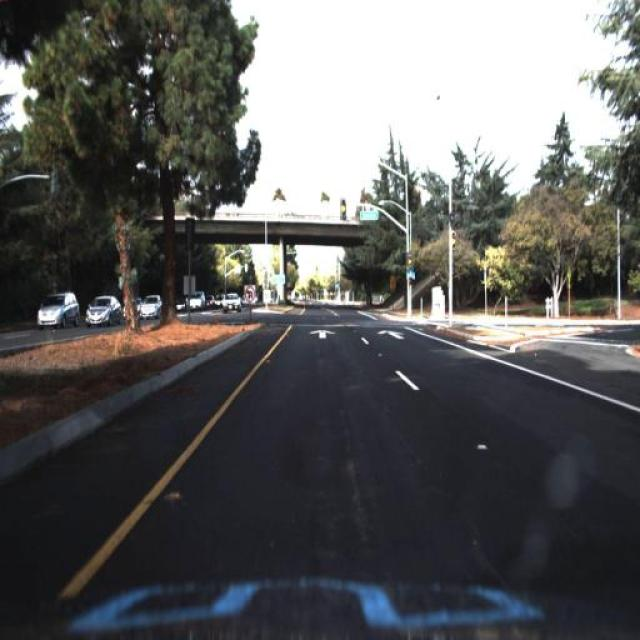car: (38, 291, 78, 330), (85, 294, 123, 324), (134, 290, 165, 324), (187, 288, 208, 312), (220, 292, 240, 314)
trafficLight-YellowLeft: (448, 228, 462, 256), (338, 195, 347, 226), (406, 246, 413, 270), (451, 226, 458, 250)
